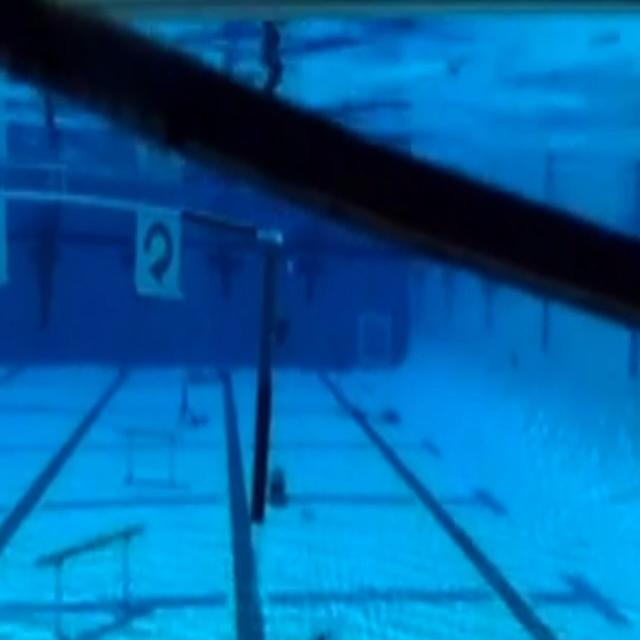Gate: (7, 188, 272, 522)
